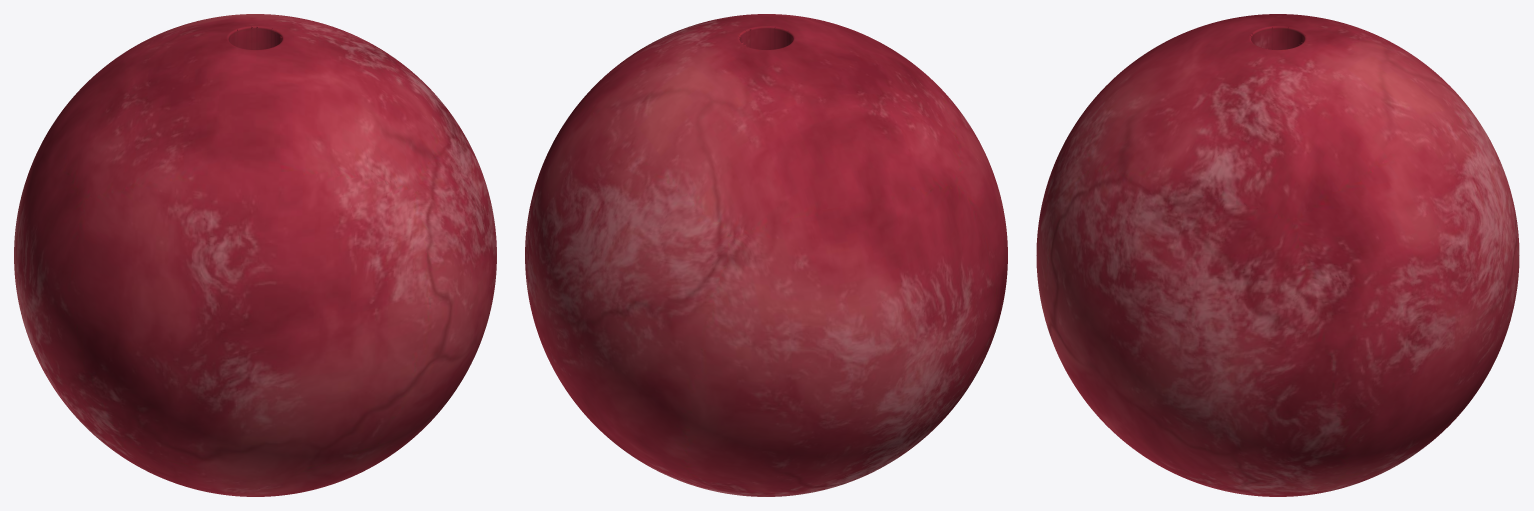
Rendered from stone-ruby.glb.
3 renders of one model, left to right at view 1: azimuth 30°, elevation 25°; view 2: azimuth 150°, elevation 25°; view 3: azimuth 270°, elevation 25°, orthographic.
Visible parts, largest first — view 1: Bead_hi; view 2: Bead_hi; view 3: Bead_hi.
Part boxes in pixels (x1,y1,x2,y2): Bead_hi: [14, 14, 496, 496]; Bead_hi: [525, 14, 1007, 496]; Bead_hi: [1036, 14, 1519, 496].
Bounding box in the file's own units: 1 × 0.9939 × 1.
1 material, 1 textured.
